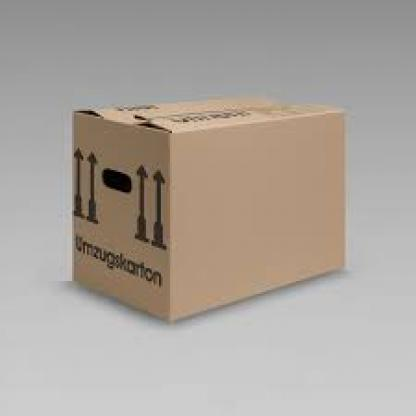box: (72, 98, 346, 322)
